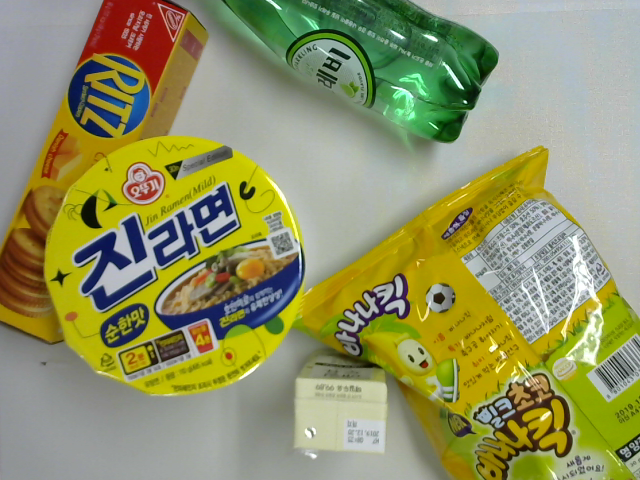99.89_Soymilk: (292, 351, 391, 458)
Banana_Kick: (284, 144, 639, 480)
Jinlamyeon_Mild_Taste_Large_Cup: (40, 131, 310, 404)
Ritz_Sand_Cracker: (1, 1, 210, 342)
Treviraim_500ml: (222, 1, 502, 147)
